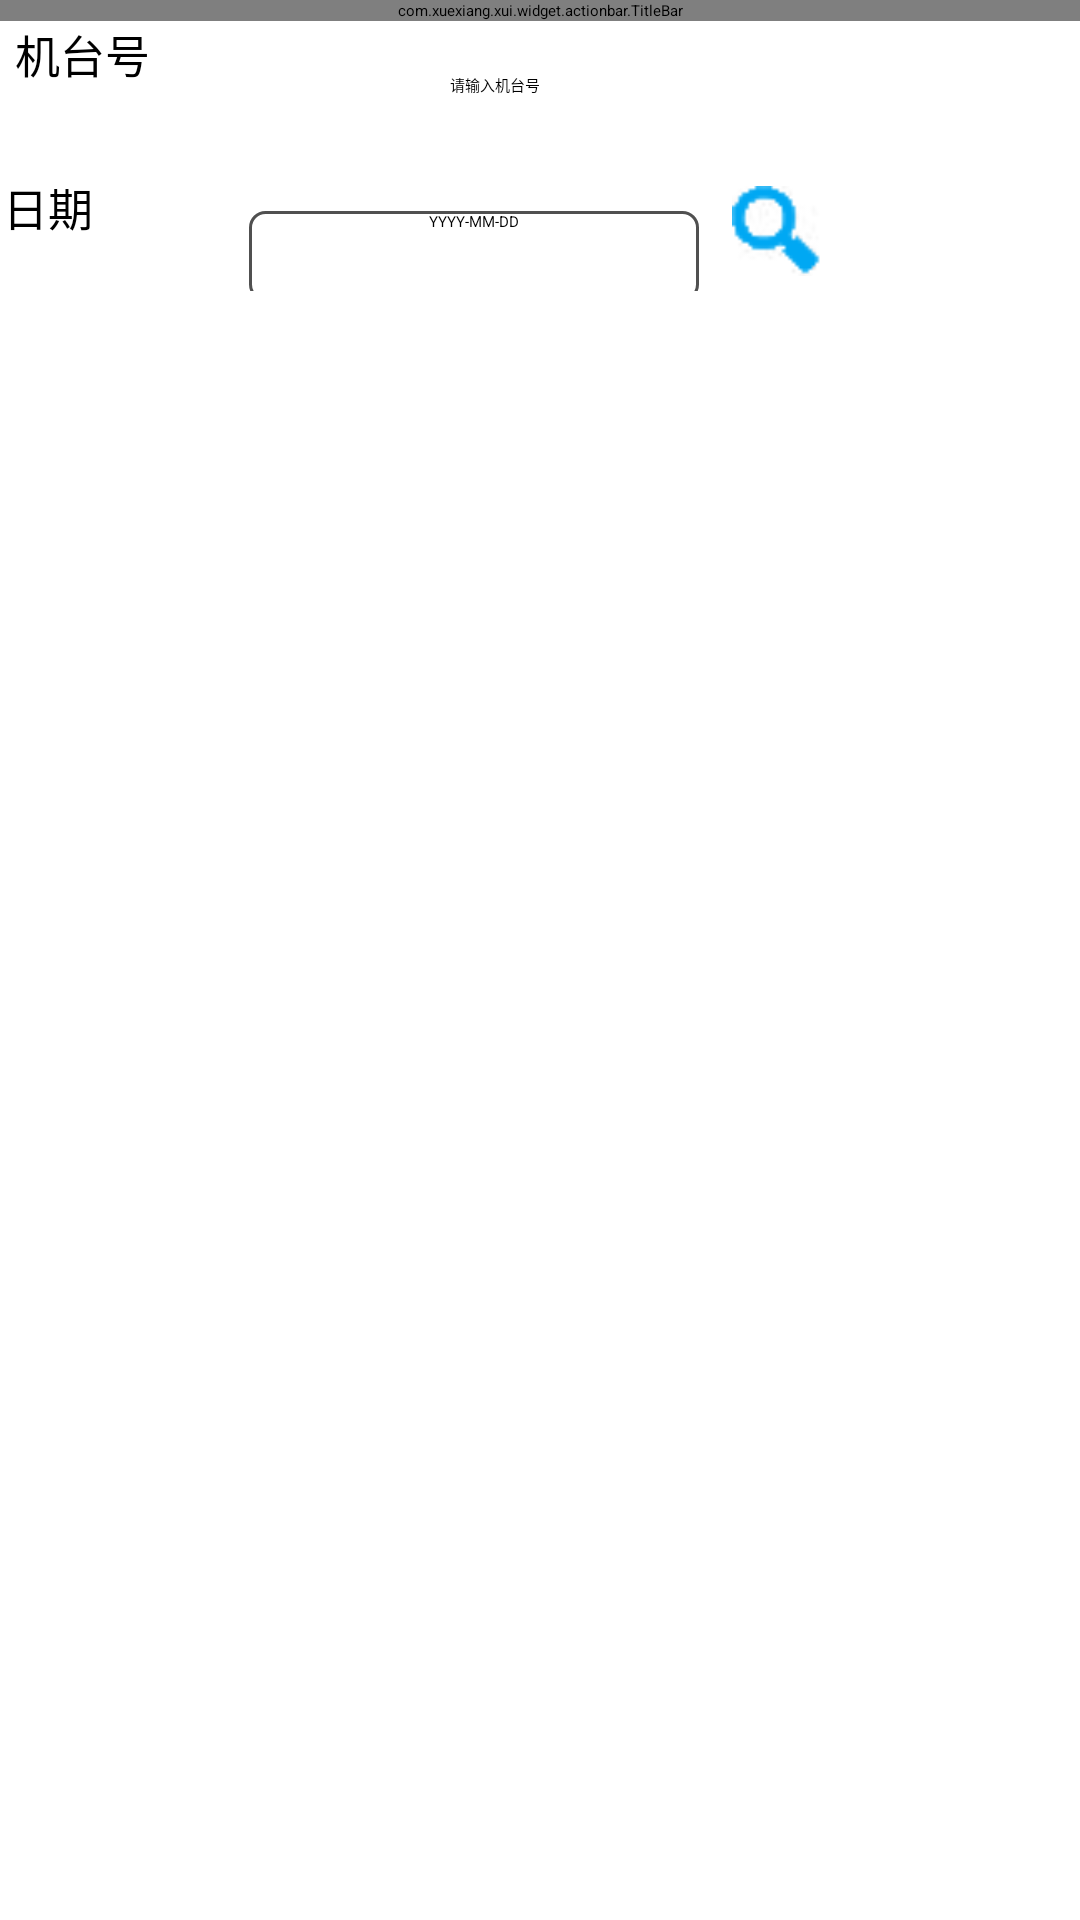

Where to tap for icons on this 1080w x 1920h app screen, as (x=x, y=y):
searth: (x=776, y=230)
